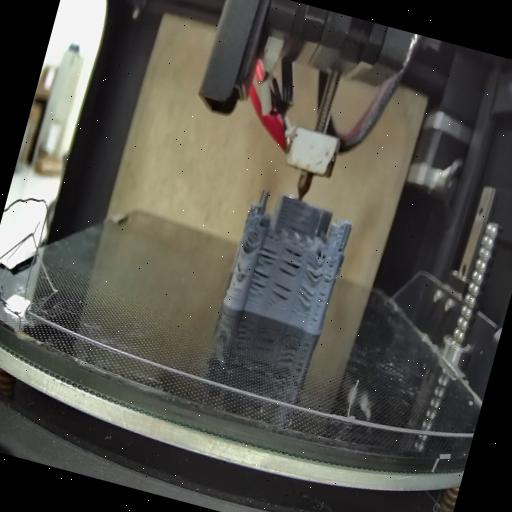cracks: (308, 270, 334, 330), (274, 243, 304, 278), (266, 278, 293, 310), (245, 268, 270, 302), (284, 212, 310, 236), (256, 242, 279, 267), (238, 230, 259, 256), (294, 286, 316, 308), (301, 264, 323, 284), (232, 262, 247, 284), (336, 240, 346, 254)
